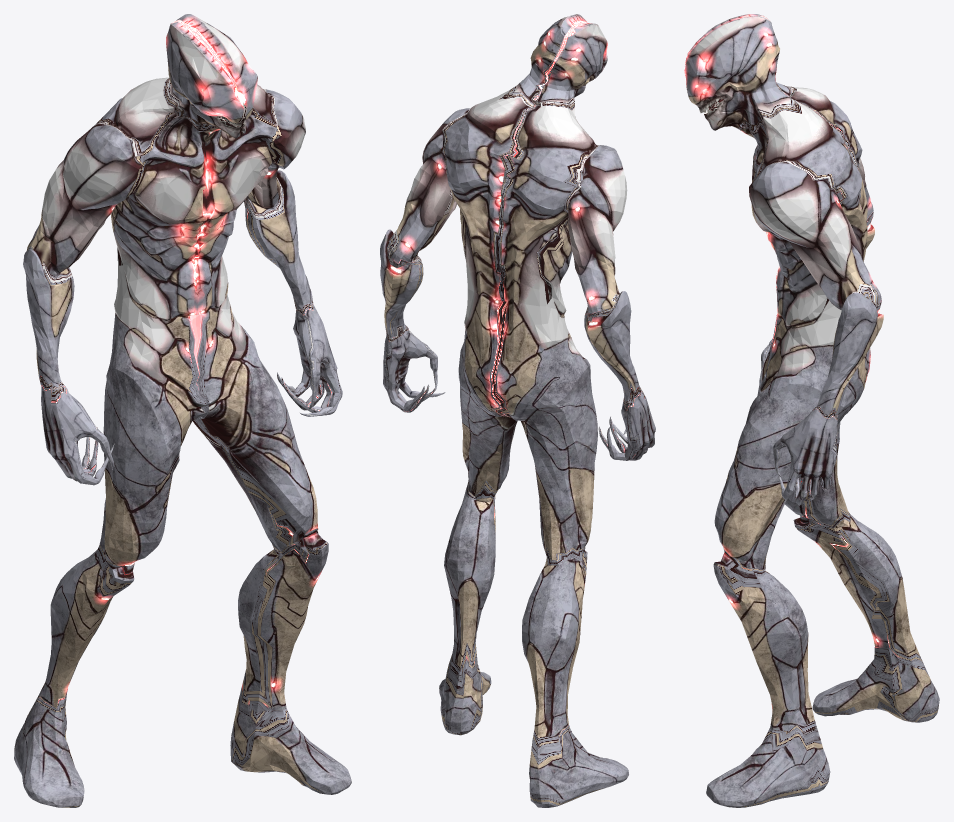
Rendered from dark_fog.glb.
3 renders of one model, left to right at view 1: azimuth 30°, elevation 25°; view 2: azimuth 150°, elevation 25°; view 3: azimuth 270°, elevation 25°, orthographic. The views are drawn at different scales.
Visible parts, largest first — view 1: Object_3, Object_2; view 2: Object_2, Object_3; view 3: Object_3, Object_2.
Boxes of the visible parts, x1,y1,x2,y2 form: Object_3: [14, 265, 351, 807]; Object_2: [23, 14, 342, 485]; Object_2: [380, 14, 655, 460]; Object_3: [439, 287, 628, 807]; Object_3: [706, 300, 939, 807]; Object_2: [684, 14, 883, 505].
Size of the model in its own units: 0.3798 by 1 by 0.3156.
2 materials, 2 textured.
